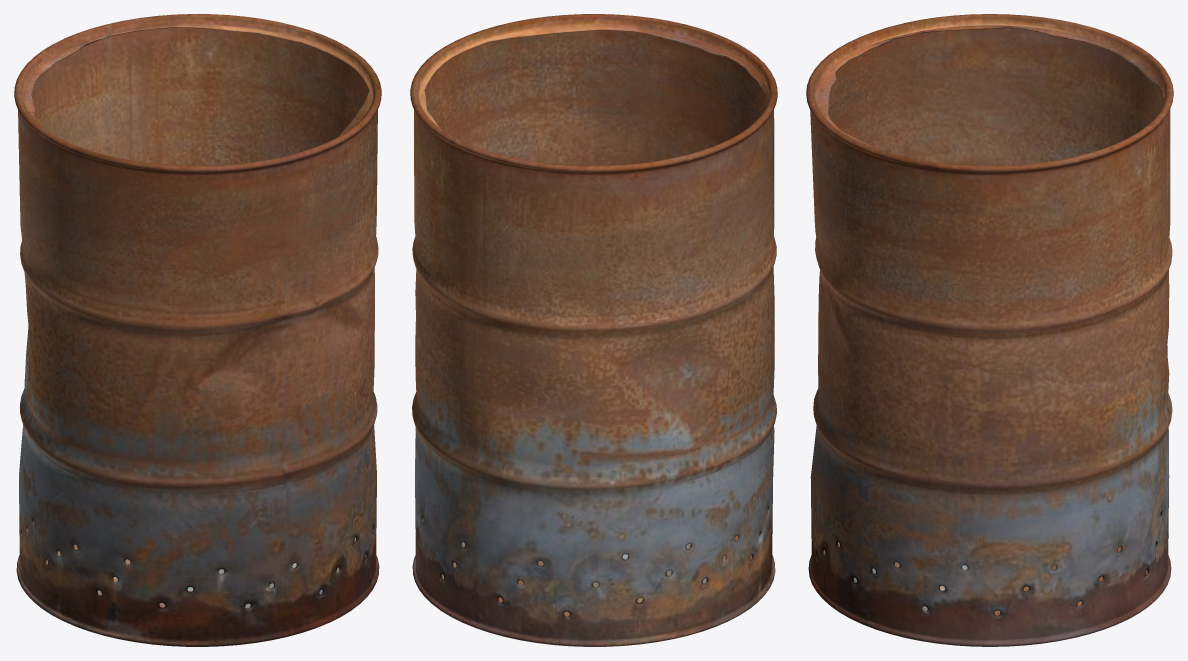
Rendered from barrel_stove.glb.
The picture shows the model from 3 angles, left to right: view 1: azimuth 30°, elevation 25°; view 2: azimuth 150°, elevation 25°; view 3: azimuth 270°, elevation 25°; orthographic projection.
Parts seen in each view (by area): view 1: barrel_stove; view 2: barrel_stove; view 3: barrel_stove.
Boxes of the visible parts, x1,y1,x2,y2 form: barrel_stove: [14, 14, 381, 646]; barrel_stove: [410, 14, 777, 646]; barrel_stove: [806, 14, 1173, 646].
Size of the model in its own units: 0.5925 by 0.8556 by 0.5925.
1 material, 1 textured.
